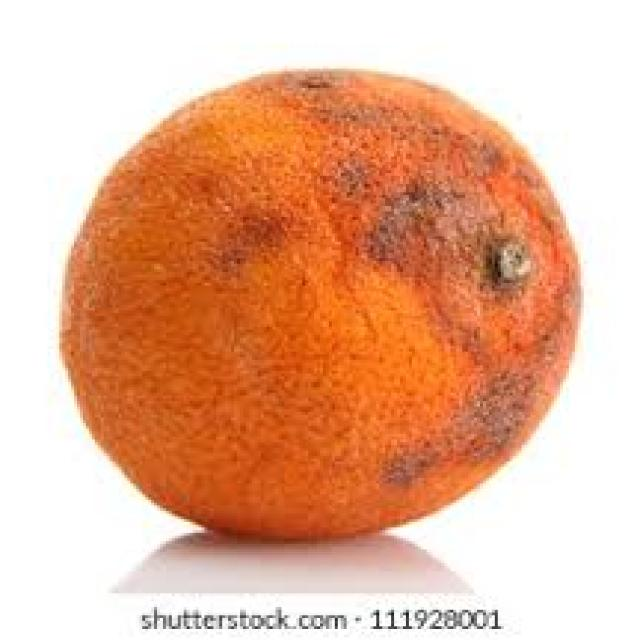overripe: (59, 66, 591, 547)
